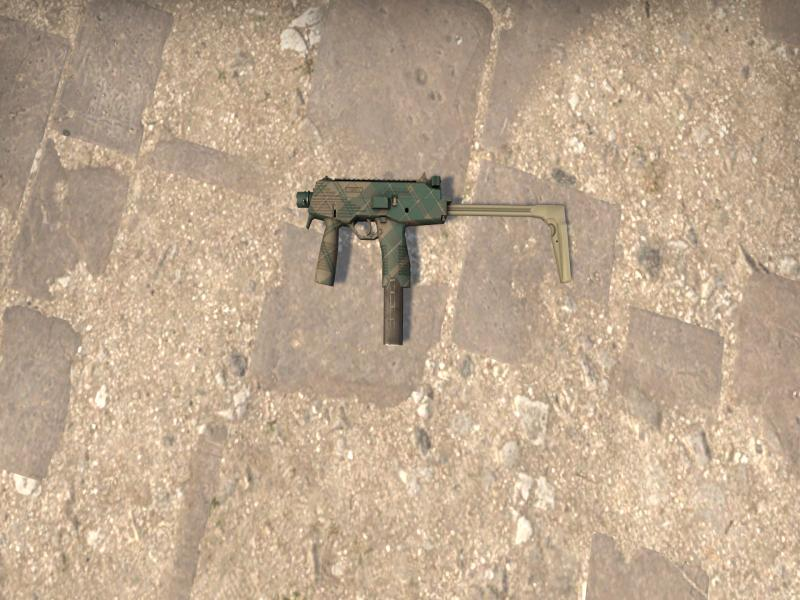MP9: (296, 173, 573, 344)
